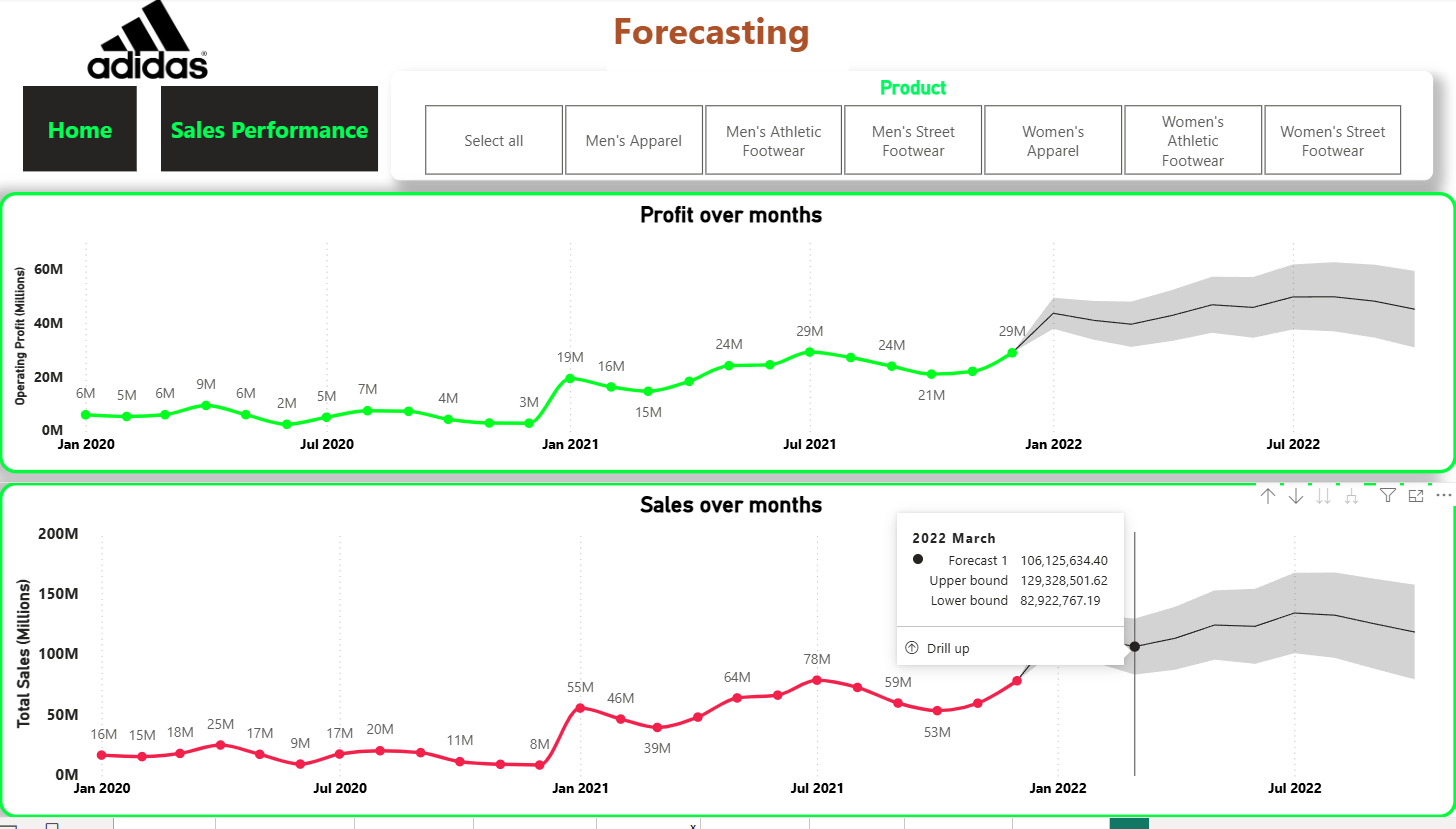

What the dashboard file says about the page in this screenshot:
{"tool":"powerbi","page":{"name":"Forecasting","canvas":[1280,720],"ordinal":4},"visuals":[{"type":"slicer","title":"Product","fields":{"Values":["Data.Product"]},"box":[344.5,64.1,915.3,96.2],"z":0},{"type":"actionButton","box":[142,77,190.6,75.1],"z":1000},{"type":"actionButton","title":"Home","box":[21.1,77,99.9,75.1],"z":2000},{"type":"lineChart","title":"Sales over months","fields":{"Y":["Sum(Data.Total Sales)"],"Category":["Date.Date.Variation.Date Hierarchy.Year","Date.Date.Variation.Date Hierarchy.Month"]},"box":[0,425.1,1280,295],"z":3000},{"type":"lineChart","title":"Profit over months","fields":{"Y":["Sum(Data.Operating Profit)"],"Category":["Date.Date.Variation.Date Hierarchy.Year","Date.Date.Variation.Date Hierarchy.Month"]},"box":[0,170.4,1280,247.4],"z":4000},{"type":"textbox","box":[534.2,0,211.7,64.1],"z":5000},{"type":"image","box":[61.4,0,137.4,71.5],"z":6000}]}

Visuals, with their boxes in screenshot pixels (x1, y1, x2, y2), scaled from the page's 1280x720 canvas onto the 1456x829 screenshot:
"Product" slicer: 392 74 1433 185
actionButton: 162 89 378 175
"Home" actionButton: 24 89 138 175
"Sales over months" lineChart: 0 489 1455 828
"Profit over months" lineChart: 0 196 1455 481
textbox: 608 0 848 74
image: 70 0 226 82
